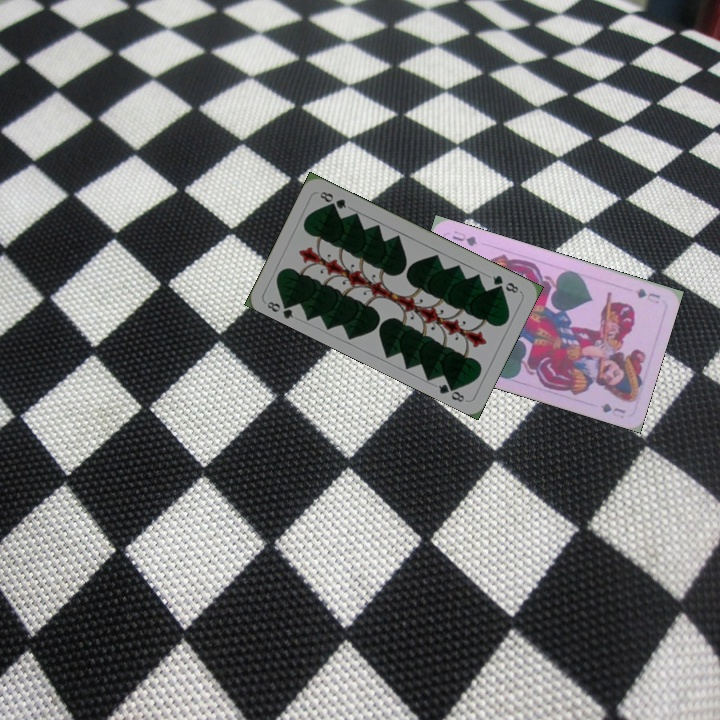G8: (488, 271, 521, 296), (263, 296, 296, 321)
GU: (631, 284, 663, 306)
